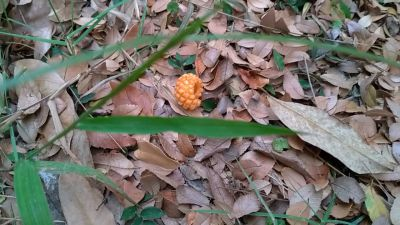eggs: (173, 72, 204, 113)
